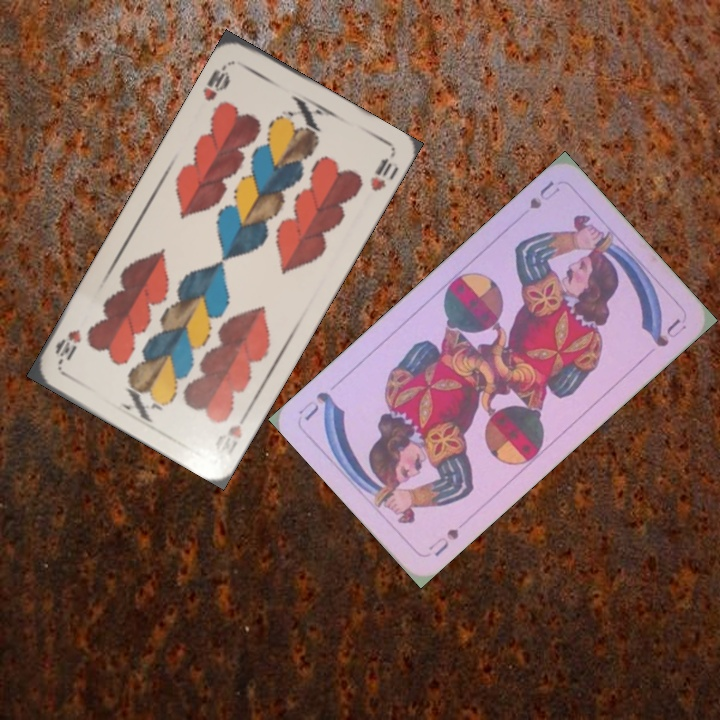H10: (198, 59, 233, 104), (223, 405, 252, 442)
SU: (424, 524, 462, 560), (525, 176, 562, 212)
